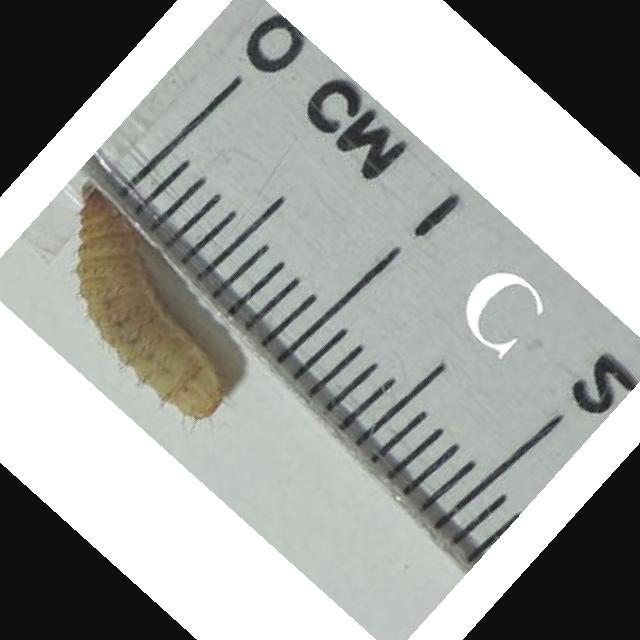Maggot: (74, 180, 229, 420)
